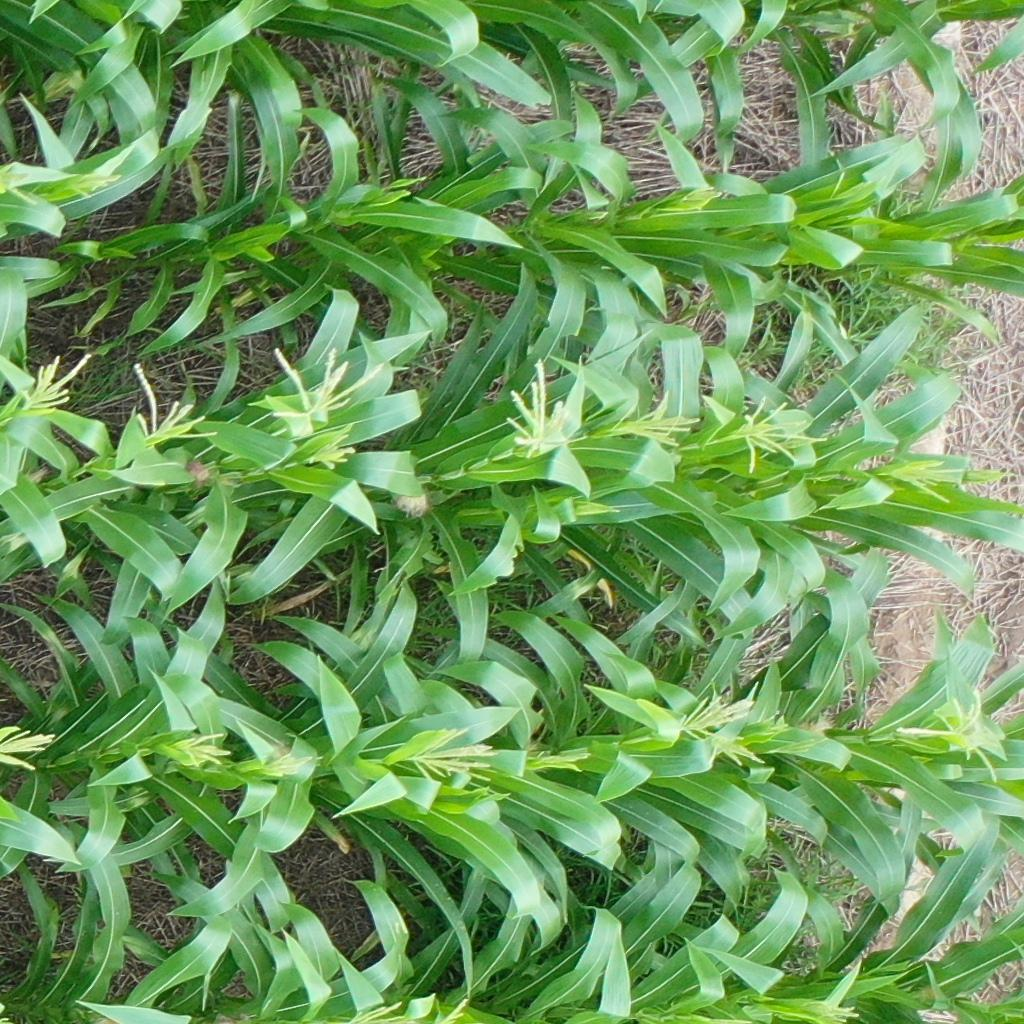Tassel: (889, 689, 1011, 788), (258, 341, 386, 425), (125, 360, 219, 451), (729, 392, 827, 475), (502, 359, 574, 460), (603, 393, 702, 452), (409, 725, 495, 790), (16, 353, 95, 417), (877, 454, 955, 506), (664, 695, 755, 737), (1, 723, 58, 778), (166, 733, 231, 775), (303, 433, 359, 478), (251, 749, 316, 785), (704, 733, 769, 768), (53, 172, 124, 202), (342, 997, 412, 1024), (803, 994, 863, 1024), (768, 735, 839, 759), (1, 162, 41, 203), (824, 173, 880, 200), (665, 186, 723, 212), (534, 749, 595, 773), (756, 706, 791, 740), (436, 996, 470, 1024)
